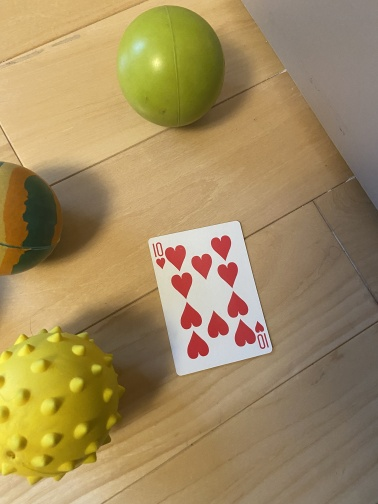ten: (147, 219, 274, 378)
